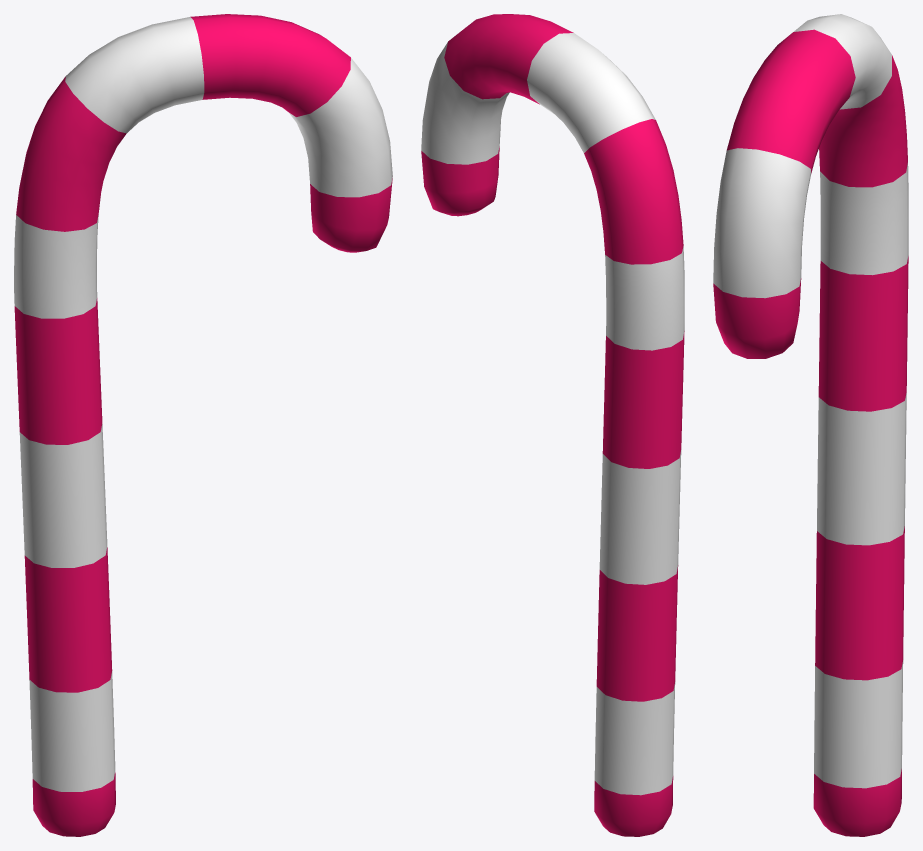
Rendered from 023_Candy_CandyPole.fbx.
3 views of the same model, side by side, from view 1: azimuth 30°, elevation 25°; view 2: azimuth 150°, elevation 25°; view 3: azimuth 270°, elevation 25° (orthographic). The views are drawn at different scales.
Parts seen in each view (by area): view 1: BézierCurve.008; view 2: BézierCurve.008; view 3: BézierCurve.008.
Part boxes in pixels (bbox=[...]): BézierCurve.008: bbox=[14, 14, 392, 836]; BézierCurve.008: bbox=[421, 14, 684, 836]; BézierCurve.008: bbox=[713, 14, 908, 836].
Size of the model in its own units: 133 by 317 by 66.55.
